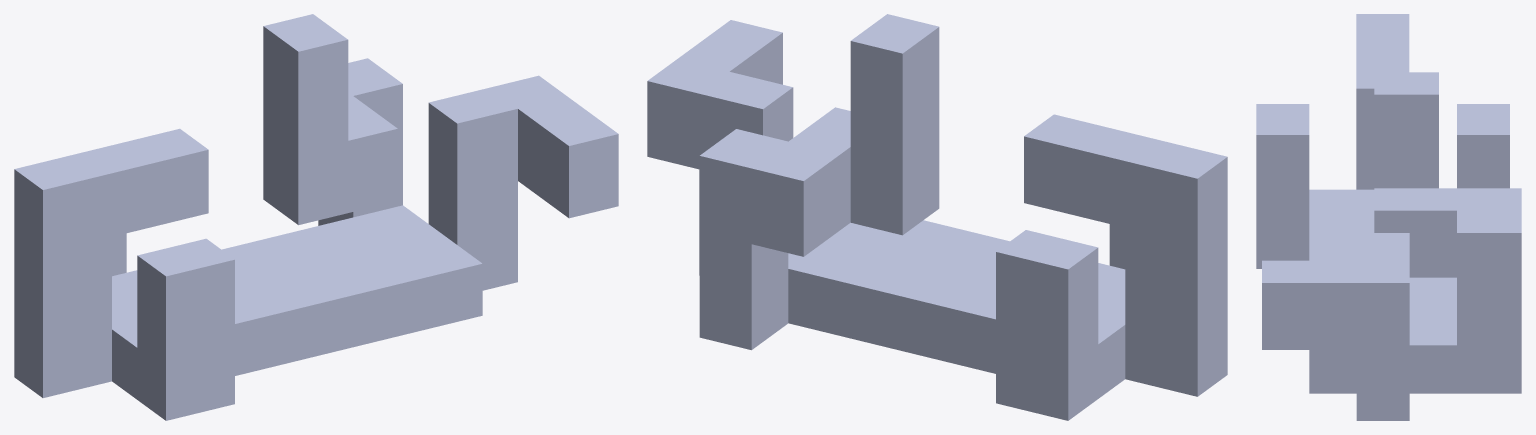
The picture shows the model from 3 angles, left to right: view 1: azimuth 30°, elevation 25°; view 2: azimuth 150°, elevation 25°; view 3: azimuth 270°, elevation 25°; orthographic projection. The views are drawn at different scales.
Visible parts, largest first — view 1: mesh_1_Long-1.001; view 2: mesh_1_Long-1.001; view 3: mesh_1_Long-1.001.
Boxes of the visible parts, box(x1,y1,x2,y2) form: mesh_1_Long-1.001: box(14, 14, 618, 420); mesh_1_Long-1.001: box(647, 14, 1227, 420); mesh_1_Long-1.001: box(1256, 14, 1521, 420).
Size of the model in its own units: 0.19 by 0.095 by 0.09.
